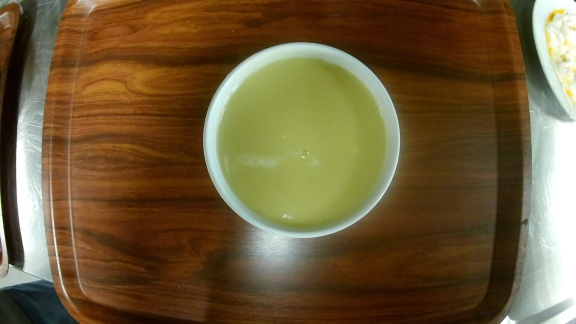mercimek: (199, 41, 404, 241)
